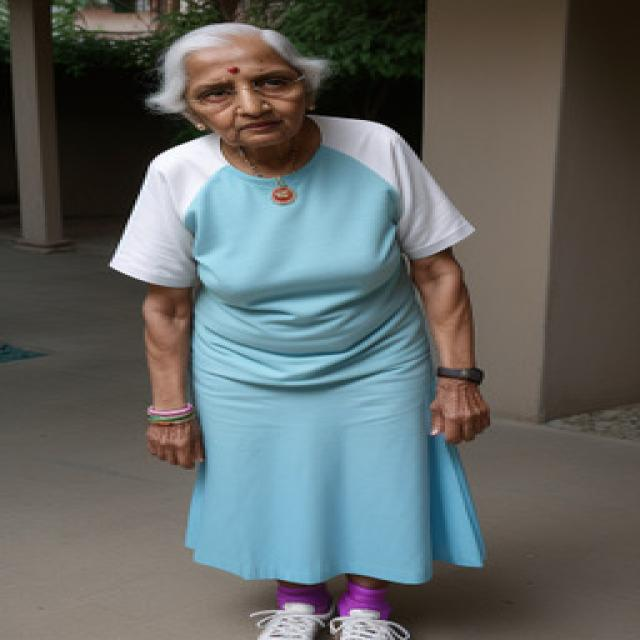Ai human 2: (105, 11, 522, 640)
